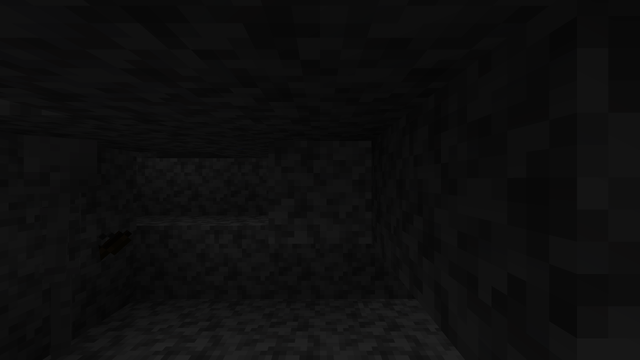squelettes: (27, 136, 117, 356)
